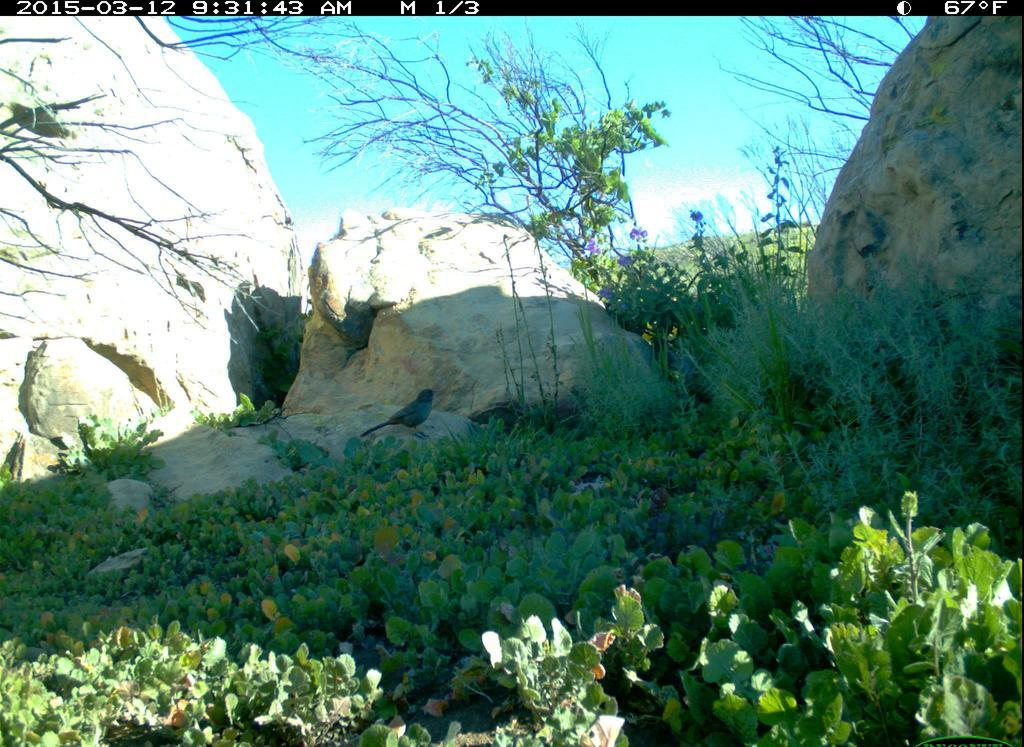bird: (358, 386, 451, 447)
